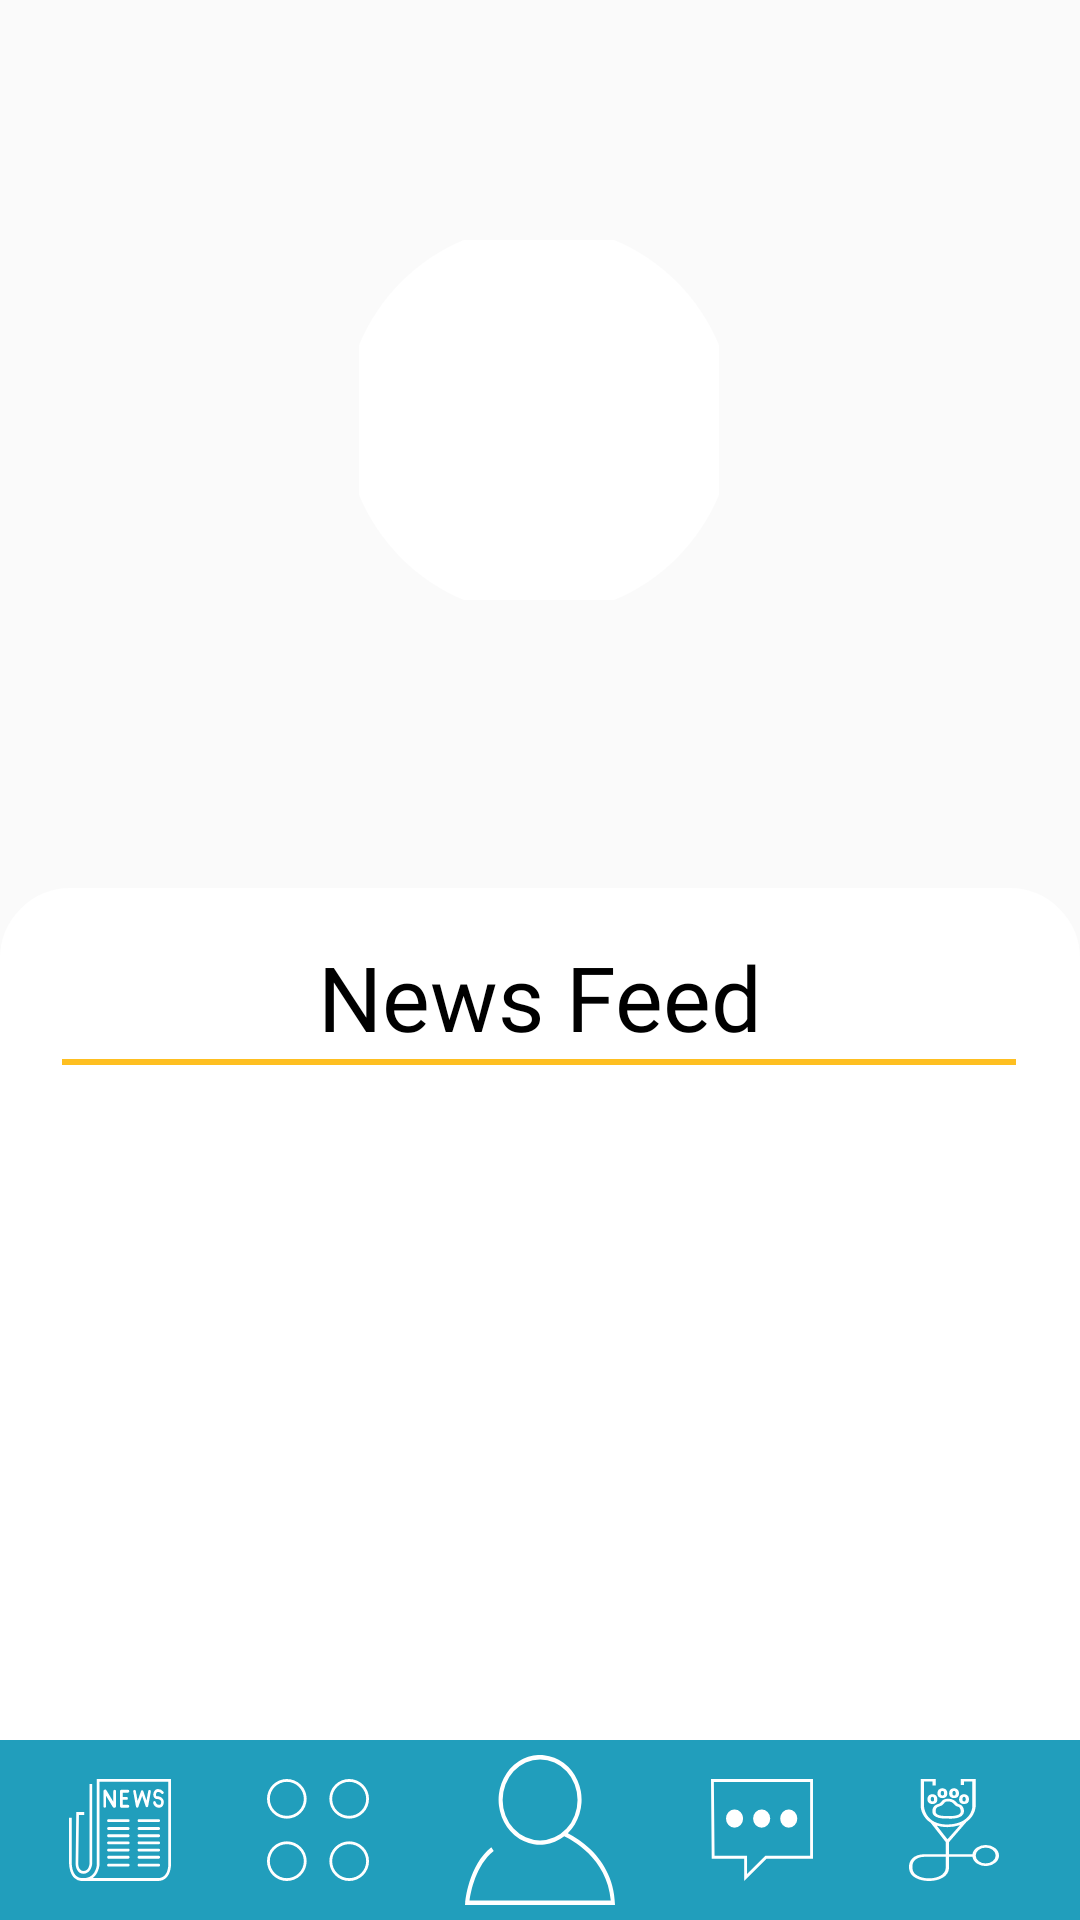

Where icons sit on this 1080*1920 app screen, as [x1,y1,x2,y2]:
Message: [711,1779,813,1881]
Vets: [909,1779,999,1881]
